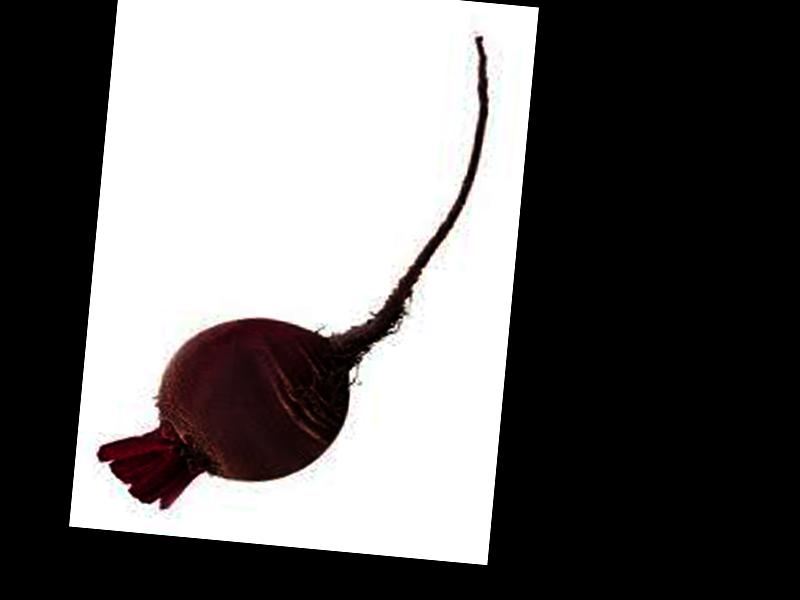Beet: (92, 0, 494, 532)
